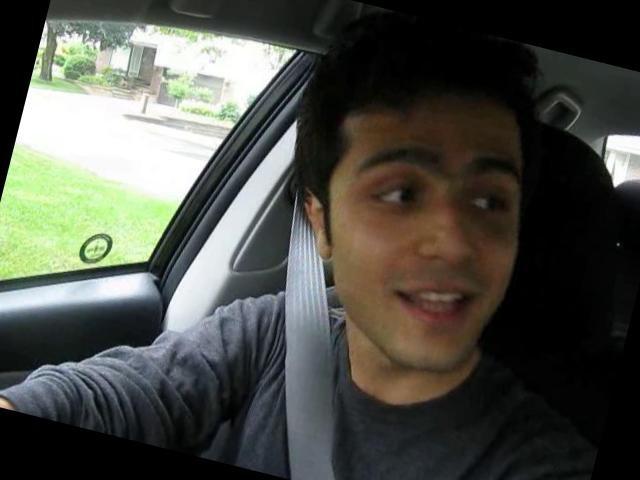eye_open: (360, 162, 442, 229), (450, 178, 522, 231)
face: (287, 75, 557, 382)
